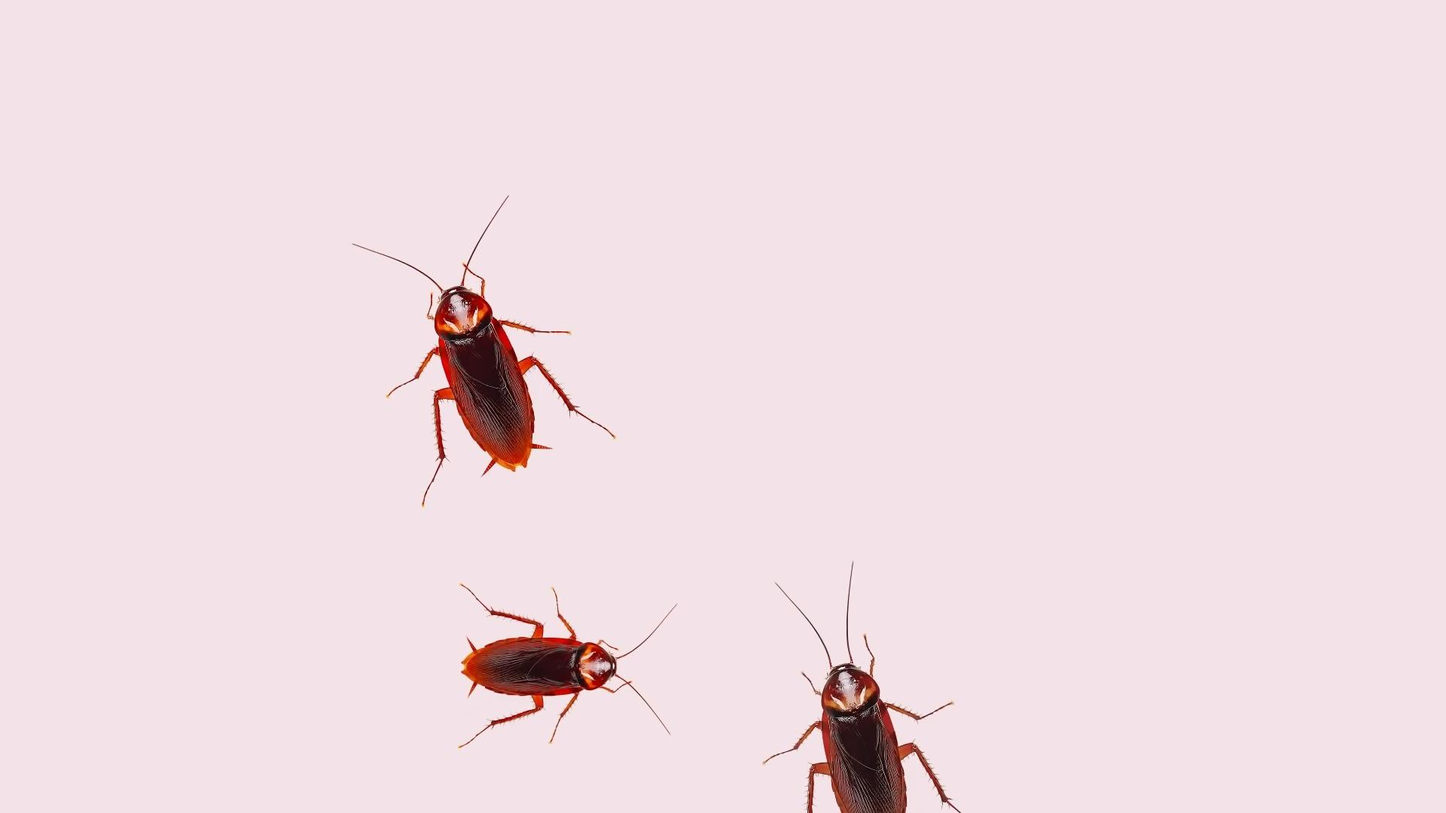cockroach: (335, 222, 655, 524), (749, 573, 989, 813), (443, 555, 672, 765)
